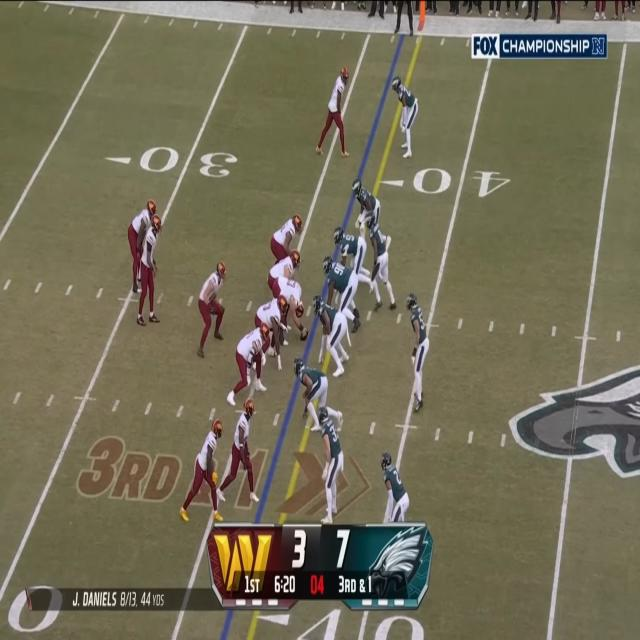Ball: (300, 328, 309, 340)
